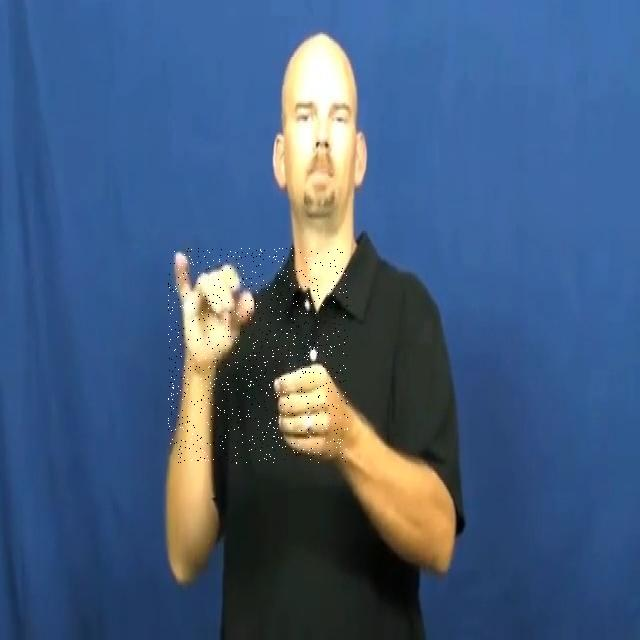soda: (168, 248, 348, 464)
